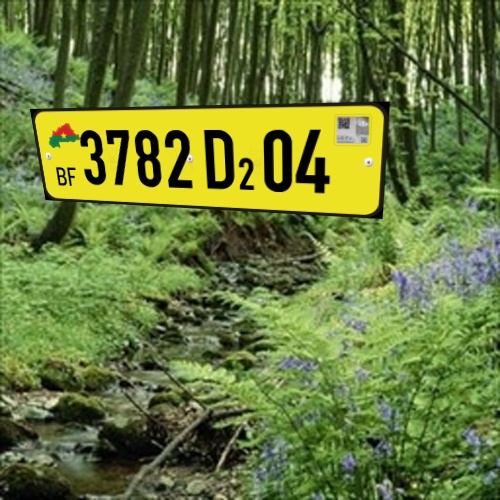plate: (24, 86, 408, 251)
